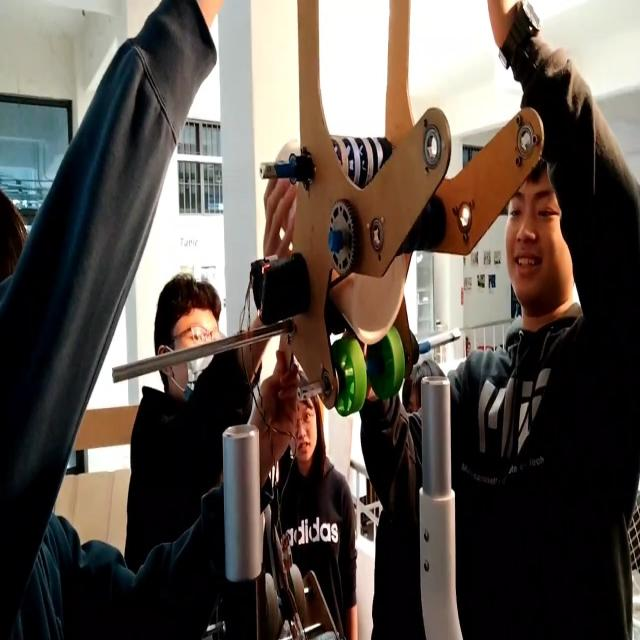CORAL: (265, 140, 407, 343)
